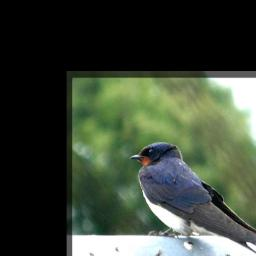Swallow: (129, 142, 256, 256)
